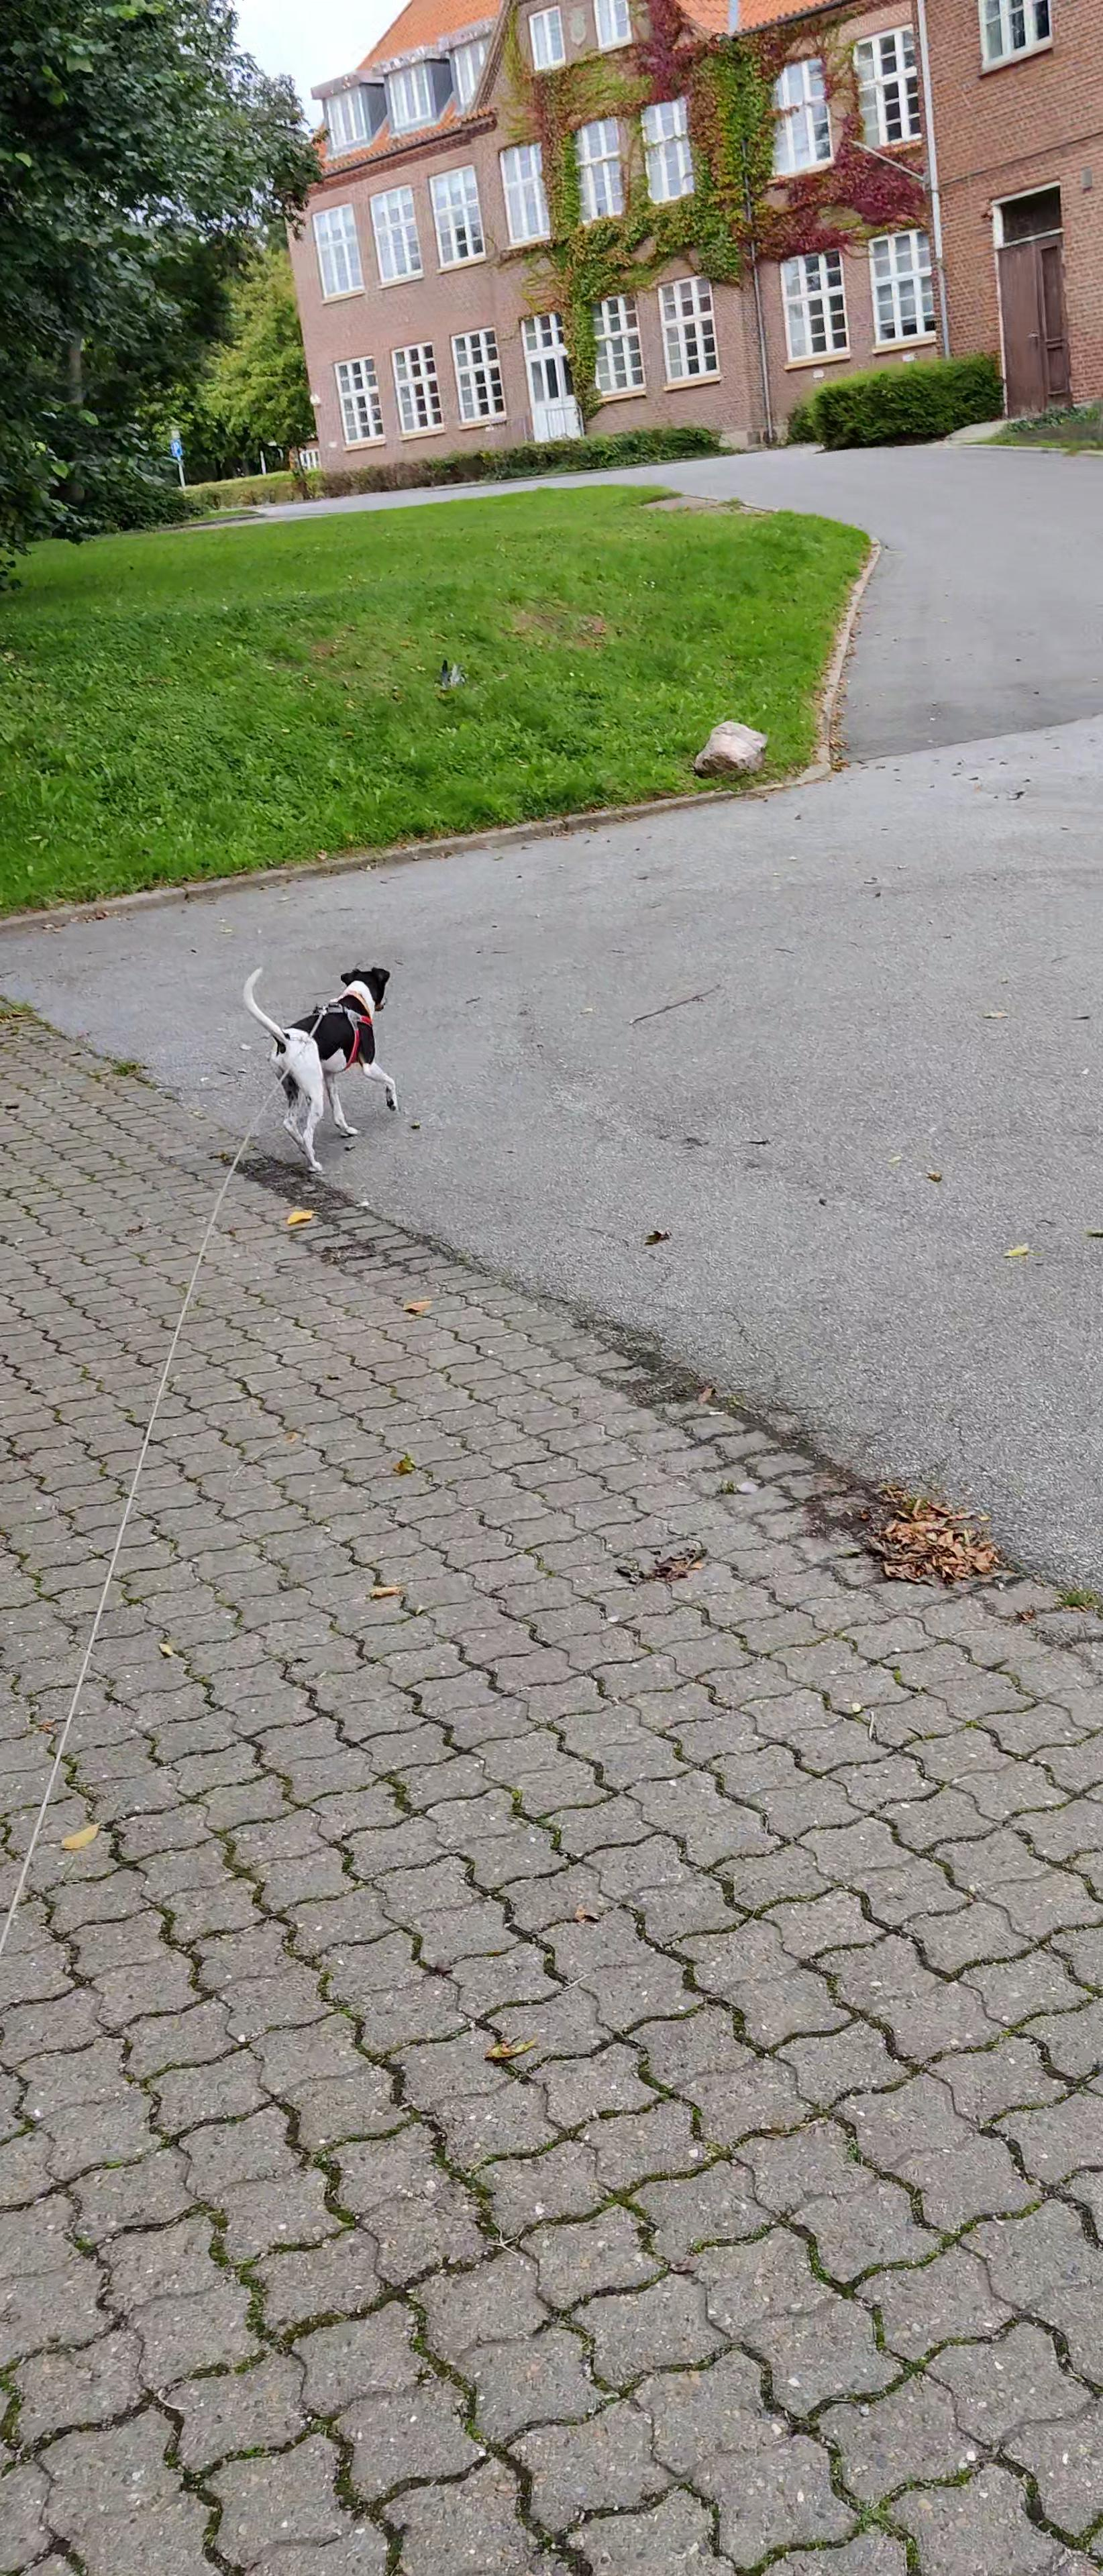Dog: (235, 963, 403, 1176)
